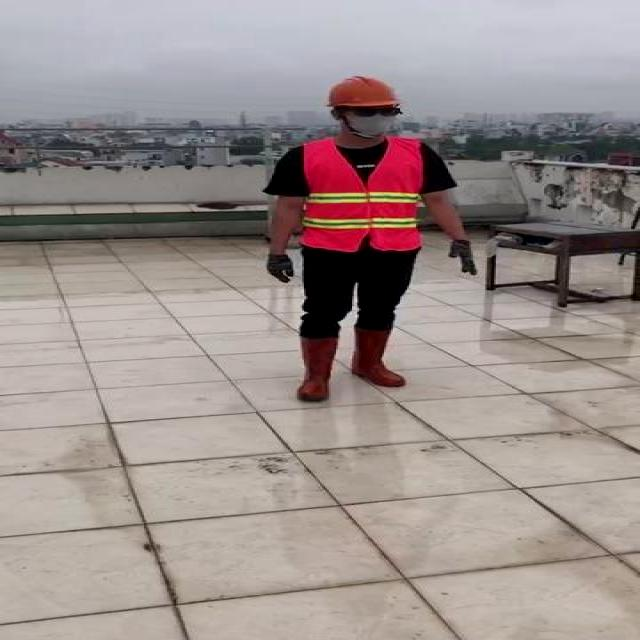boots: (350, 327, 411, 387), (295, 334, 341, 402)
face_mask: (343, 104, 404, 138)
glasses: (350, 104, 404, 120)
hand_glove: (446, 240, 480, 275), (265, 253, 295, 283)
head_helmet: (330, 75, 406, 111)
person: (252, 79, 489, 404)
vest: (299, 138, 423, 252)
